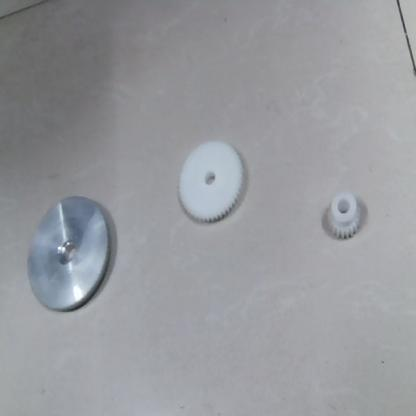FOD: (22, 195, 113, 316), (172, 138, 254, 229), (320, 190, 366, 242)
